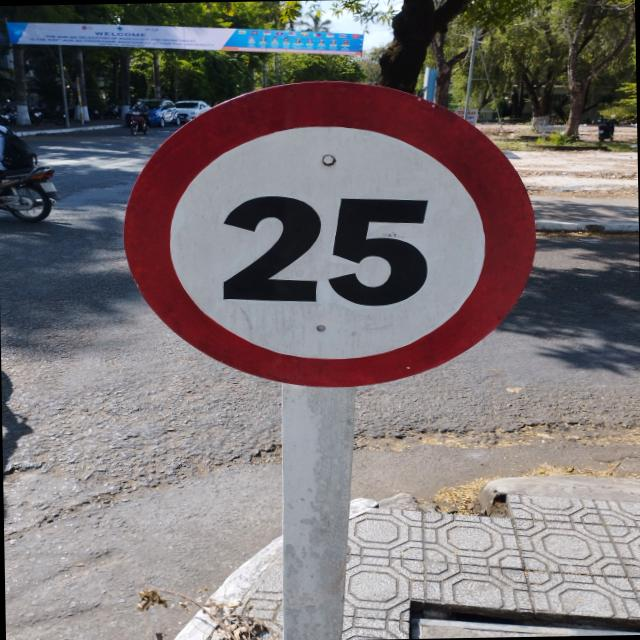Tre_Em: (119, 76, 539, 393)
